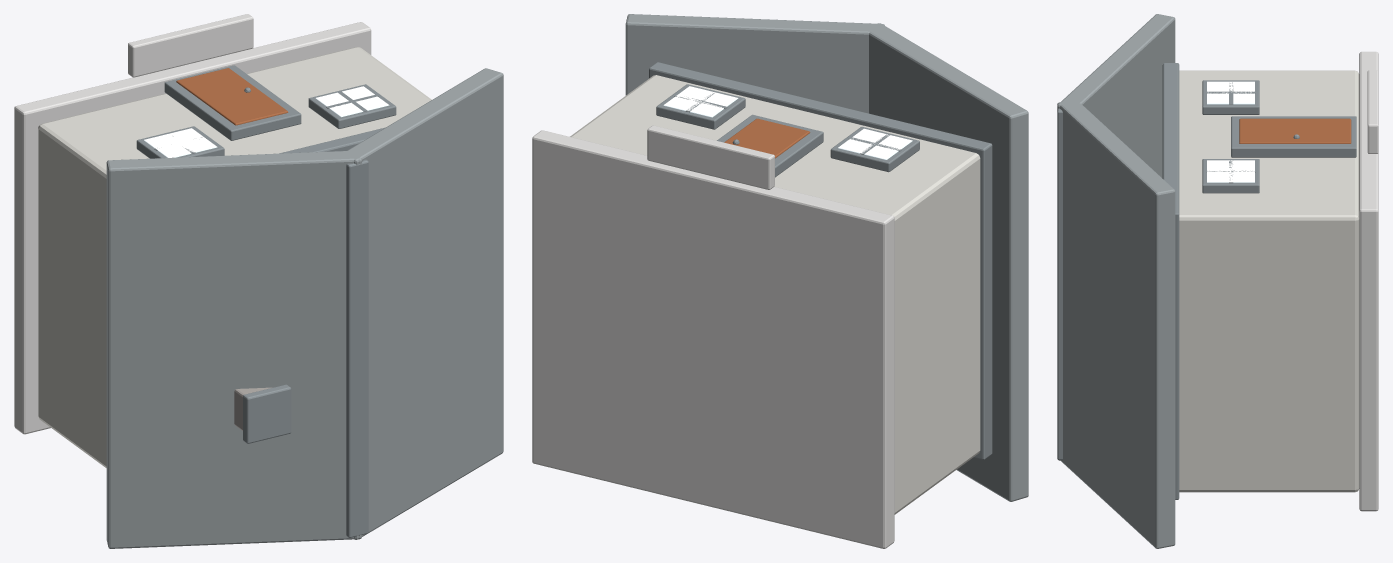
Rendered from house.glb.
3 views of the same model, side by side, from view 1: azimuth 30°, elevation 25°; view 2: azimuth 150°, elevation 25°; view 3: azimuth 270°, elevation 25° (orthographic). The views are drawn at different scales.
Parts seen in each view (by area): view 1: RoofLeft, RoofRight, WallBody, Foundation, RidgeCap, PorchStep, Door, Chimney, DoorFrame, WindowFrameR, WindowGlassL, WindowGlassR (+2 smaller); view 2: Foundation, WallBody, RoofLeft, RoofRight, TrimBand, PorchStep, Door, WindowFrameR, DoorFrame, WindowFrameL, WindowGlassR, WindowGlassL; view 3: WallBody, RoofRight, RoofLeft, Foundation, TrimBand, Door, DoorFrame, RidgeCap, WindowGlassR, WindowGlassL, WindowFrameR, PorchStep (+1 smaller).
Boxes of the visible parts, x1=… form: RoofLeft: x1=106, y1=150, x2=362, y2=548; RoofRight: x1=342, y1=68, x2=503, y2=539; WallBody: x1=38, y1=47, x2=431, y2=467; Foundation: x1=14, y1=22, x2=371, y2=434; RidgeCap: x1=346, y1=159, x2=368, y2=537; PorchStep: x1=128, y1=14, x2=253, y2=77; Door: x1=176, y1=68, x2=288, y2=125; Chimney: x1=234, y1=384, x2=291, y2=443; DoorFrame: x1=164, y1=65, x2=301, y2=140; WindowFrameR: x1=308, y1=84, x2=396, y2=128; WindowGlassL: x1=144, y1=128, x2=217, y2=157; WindowGlassR: x1=315, y1=86, x2=389, y2=117; Foundation: x1=532, y1=130, x2=894, y2=548; WallBody: x1=570, y1=75, x2=980, y2=514; RoofLeft: x1=864, y1=23, x2=1028, y2=501; RoofRight: x1=625, y1=14, x2=884, y2=113; TrimBand: x1=649, y1=62, x2=992, y2=459; PorchStep: x1=647, y1=125, x2=774, y2=189; Door: x1=724, y1=118, x2=810, y2=158; WindowFrameR: x1=656, y1=84, x2=745, y2=129; DoorFrame: x1=717, y1=114, x2=823, y2=177; WindowFrameL: x1=830, y1=127, x2=919, y2=172; WindowGlassR: x1=663, y1=86, x2=738, y2=117; WindowGlassL: x1=838, y1=128, x2=912, y2=159; WallBody: x1=1179, y1=70, x2=1359, y2=492; RoofRight: x1=1057, y1=99, x2=1175, y2=548; RoofLeft: x1=1057, y1=14, x2=1175, y2=460; Foundation: x1=1359, y1=51, x2=1378, y2=511; TrimBand: x1=1162, y1=63, x2=1179, y2=499; Door: x1=1239, y1=118, x2=1351, y2=143; DoorFrame: x1=1231, y1=116, x2=1356, y2=157; RidgeCap: x1=1057, y1=108, x2=1062, y2=459; WindowGlassR: x1=1207, y1=160, x2=1254, y2=182; WindowGlassL: x1=1207, y1=81, x2=1254, y2=104; WindowFrameR: x1=1202, y1=159, x2=1259, y2=193; PorchStep: x1=1367, y1=70, x2=1378, y2=153.
Size of the model in its own units: 0.7809 by 0.732 by 0.588.
